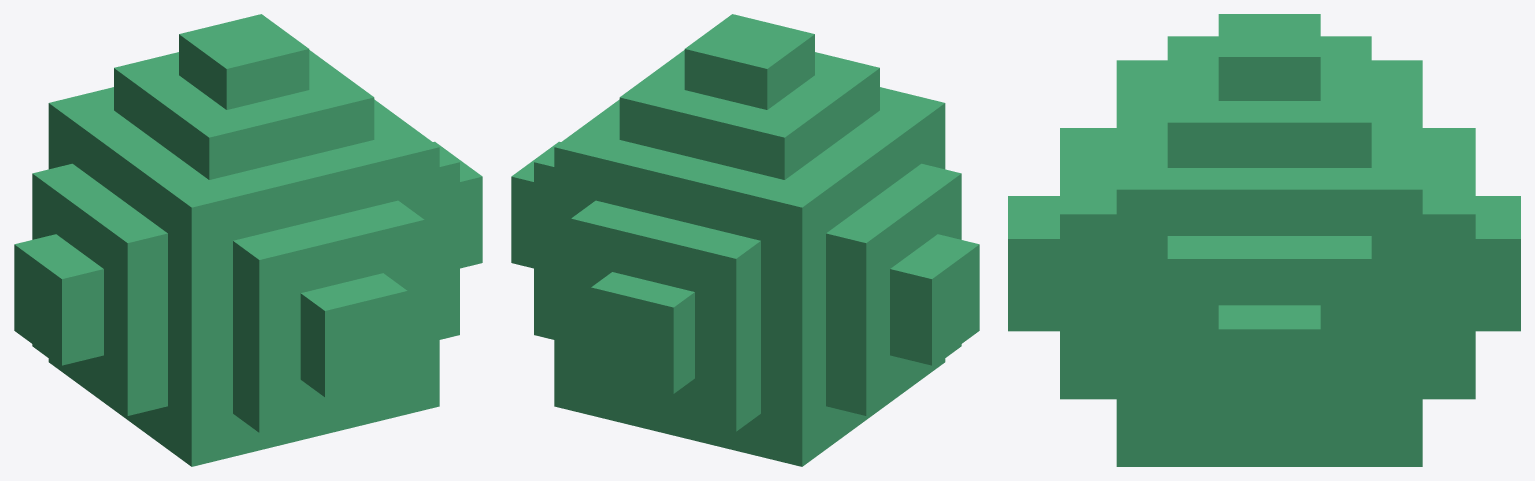
The model's file is shrub2.fbx.
3 views of the same model, side by side, from view 1: azimuth 30°, elevation 25°; view 2: azimuth 150°, elevation 25°; view 3: azimuth 270°, elevation 25° (orthographic). The views are drawn at different scales.
Parts seen in each view (by area): view 1: Cube; view 2: Cube; view 3: Cube.
Boxes of the visible parts, x1=… form: Cube: x1=14, y1=14, x2=482, y2=466; Cube: x1=511, y1=14, x2=979, y2=466; Cube: x1=1008, y1=14, x2=1520, y2=466.
Size of the model in its own units: 594 by 463 by 586.
